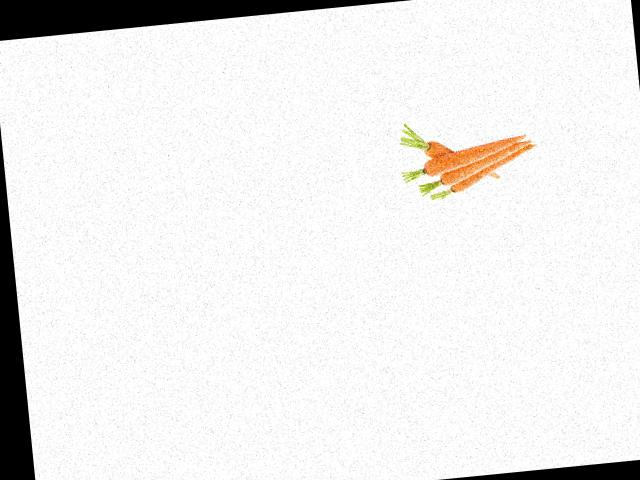carrot: (409, 127, 457, 165)
